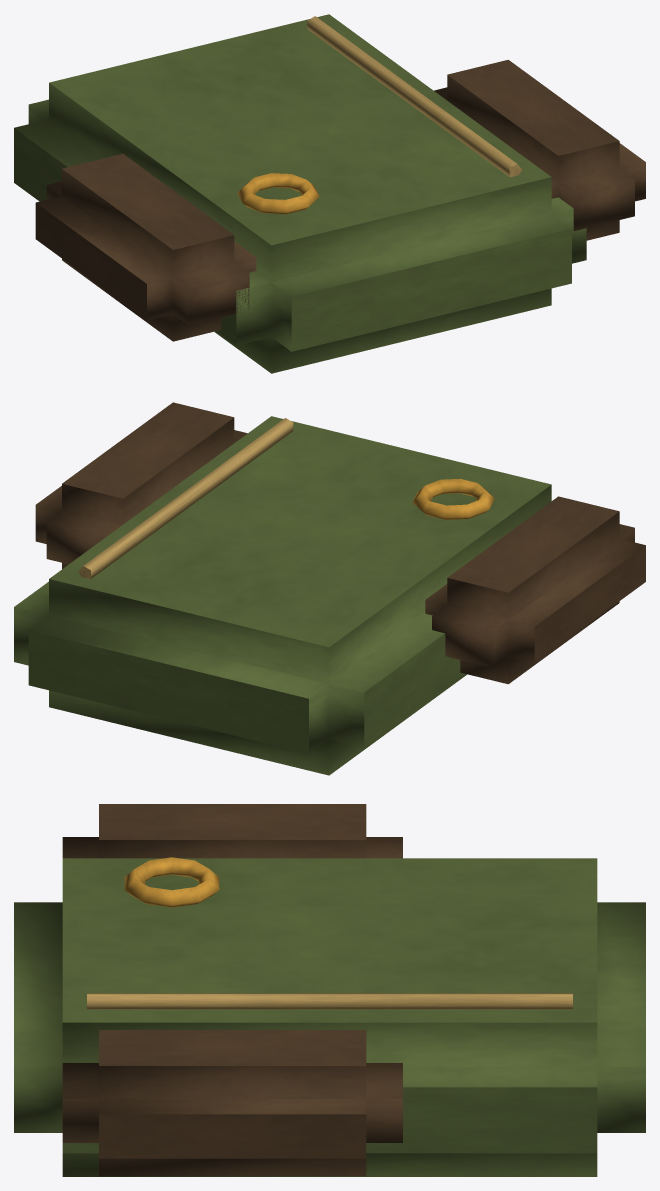
Rendered from item-WardedCloak.fbx.
3 views of the same model, one above another, from view 1: azimuth 30°, elevation 25°; view 2: azimuth 150°, elevation 25°; view 3: azimuth 270°, elevation 25° (orthographic). The views are drawn at different scales.
Parts seen in each view (by area): view 1: item-WardedCloak__Geometry; view 2: item-WardedCloak__Geometry; view 3: item-WardedCloak__Geometry.
Boxes of the visible parts, left/top/right/bottom form: item-WardedCloak__Geometry: left=14, top=14, right=645, bottom=373; item-WardedCloak__Geometry: left=14, top=402, right=645, bottom=775; item-WardedCloak__Geometry: left=14, top=804, right=645, bottom=1176.
Bounding box in the file's own units: 0.57 × 0.154 × 0.52.
1 material, 1 textured.
